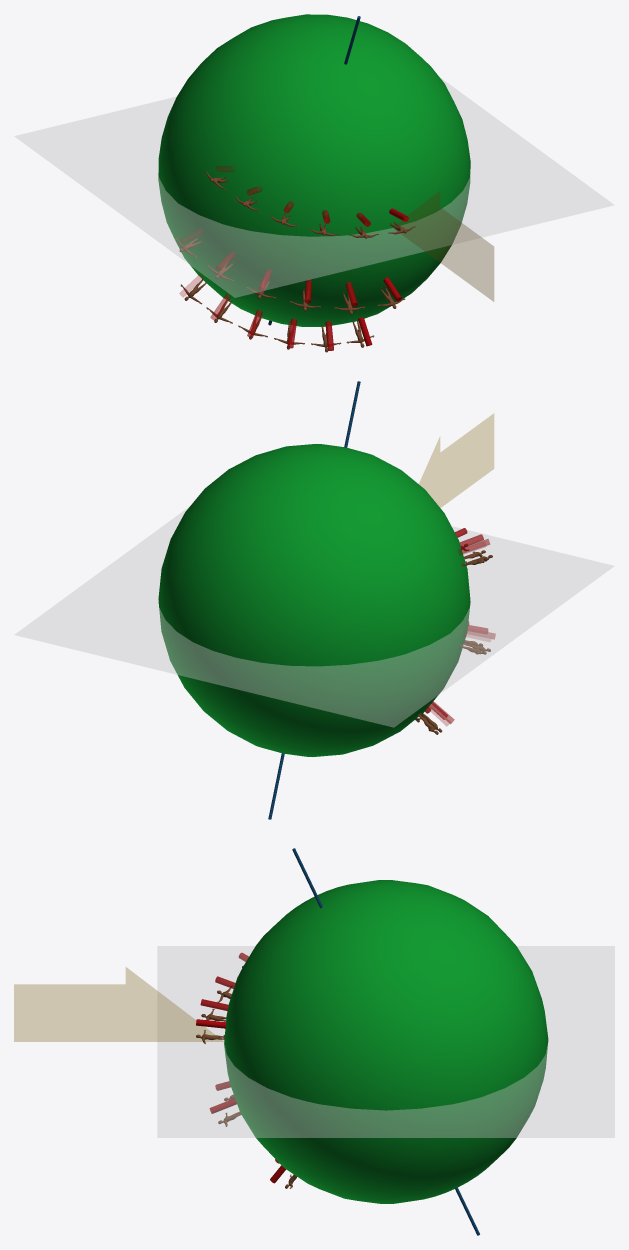
File: gnomon4 translacao 2.dae
3 views of the same model, one above another, from view 1: azimuth 30°, elevation 25°; view 2: azimuth 150°, elevation 25°; view 3: azimuth 270°, elevation 25° (orthographic). The views are drawn at different scales.
Parts seen in each view (by area): view 1: Terra, Plano_da_orbita, Raios_solares; view 2: Terra, Plano_da_orbita, Raios_solares; view 3: Terra, Plano_da_orbita, Raios_solares.
Boxes of the visible parts, left/top/right/bottom form: Terra: left=158, top=14, right=470, bottom=326; Plano_da_orbita: left=14, top=77, right=613, bottom=297; Raios_solares: left=393, top=191, right=493, bottom=301; Terra: left=158, top=444, right=470, bottom=756; Plano_da_orbita: left=15, top=507, right=613, bottom=727; Raios_solares: left=419, top=414, right=493, bottom=507; Terra: left=224, top=880, right=548, bottom=1203; Plano_da_orbita: left=157, top=946, right=614, bottom=1137; Raios_solares: left=14, top=967, right=223, bottom=1041.
Bounding box in the file's own units: 2.8 × 3.7 × 2.63.
